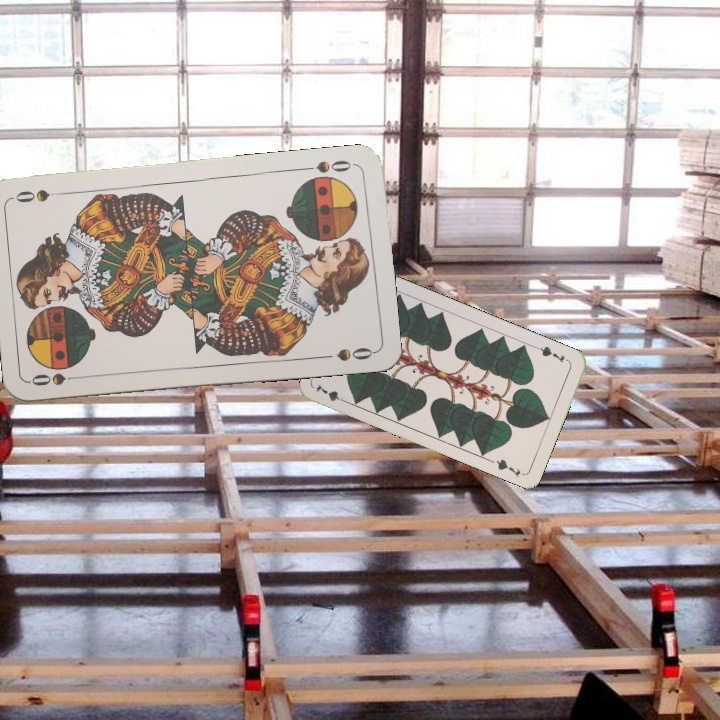G7: (312, 380, 351, 406), (533, 342, 568, 365)
SO: (299, 156, 359, 176), (27, 369, 86, 389)
